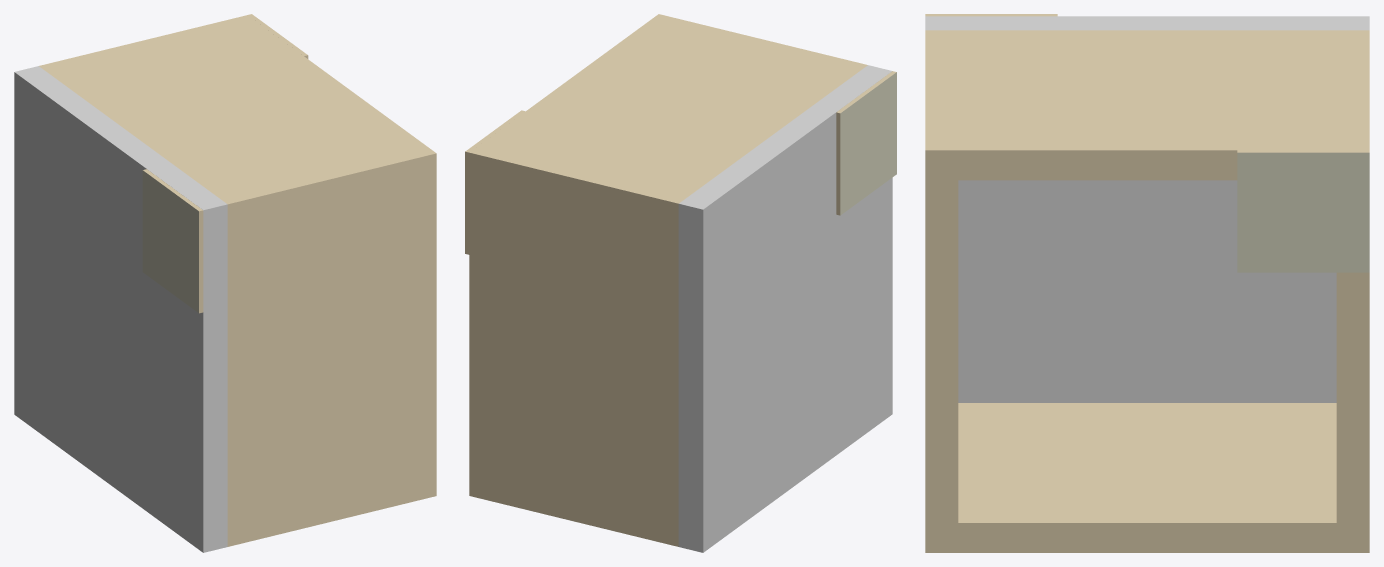
File: dt_box_plexi.dae
3 views of the same model, side by side, from view 1: azimuth 30°, elevation 25°; view 2: azimuth 150°, elevation 25°; view 3: azimuth 270°, elevation 25° (orthographic). The views are drawn at different scales.
Parts seen in each view (by area): view 1: case11.012; view 2: case11.012; view 3: case11.012.
Boxes of the visible parts, x1,y1,x2,y2 form: case11.012: (14, 14, 436, 552); case11.012: (465, 14, 896, 552); case11.012: (925, 14, 1369, 552).
Bounding box in the file's own units: 0.1736 × 0.235 × 0.235.
